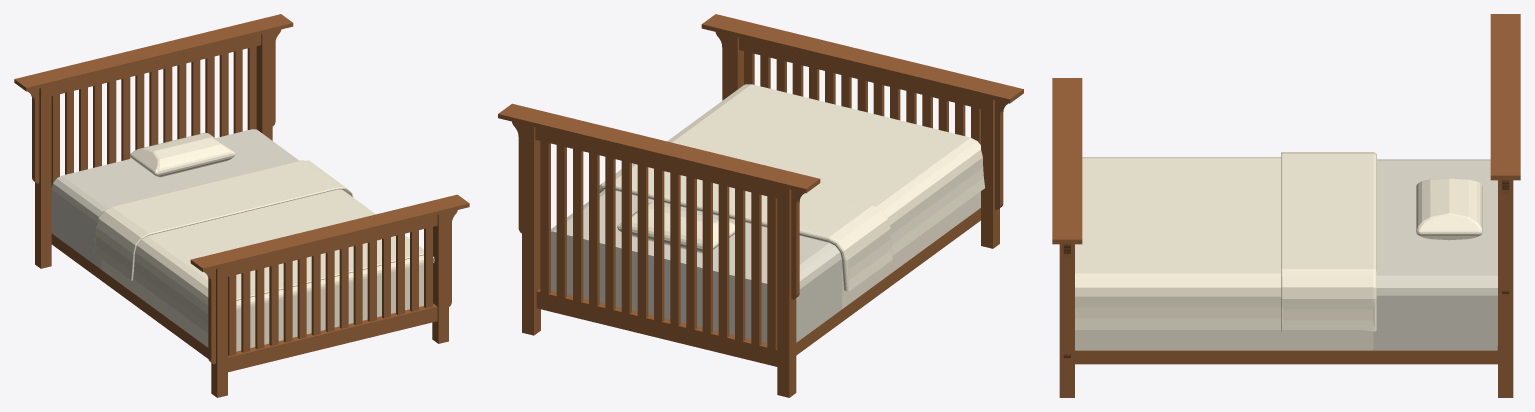
File: Baby Bed.glb
3 renders of one model, left to right at view 1: azimuth 30°, elevation 25°; view 2: azimuth 150°, elevation 25°; view 3: azimuth 270°, elevation 25°, orthographic. The views are drawn at different scales.
Visible parts, largest first — view 1: Node; view 2: Node; view 3: Node.
Boxes of the visible parts, left/top/right/bottom form: Node: left=14, top=14, right=469, bottom=397; Node: left=498, top=14, right=1023, bottom=397; Node: left=1052, top=14, right=1520, bottom=397.
Bounding box in the file's own units: 76 × 51 × 93.
